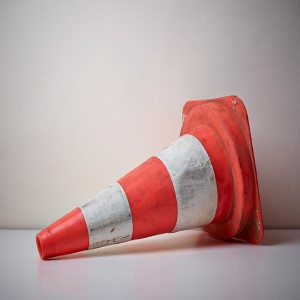traffic cone: (35, 94, 264, 260)
